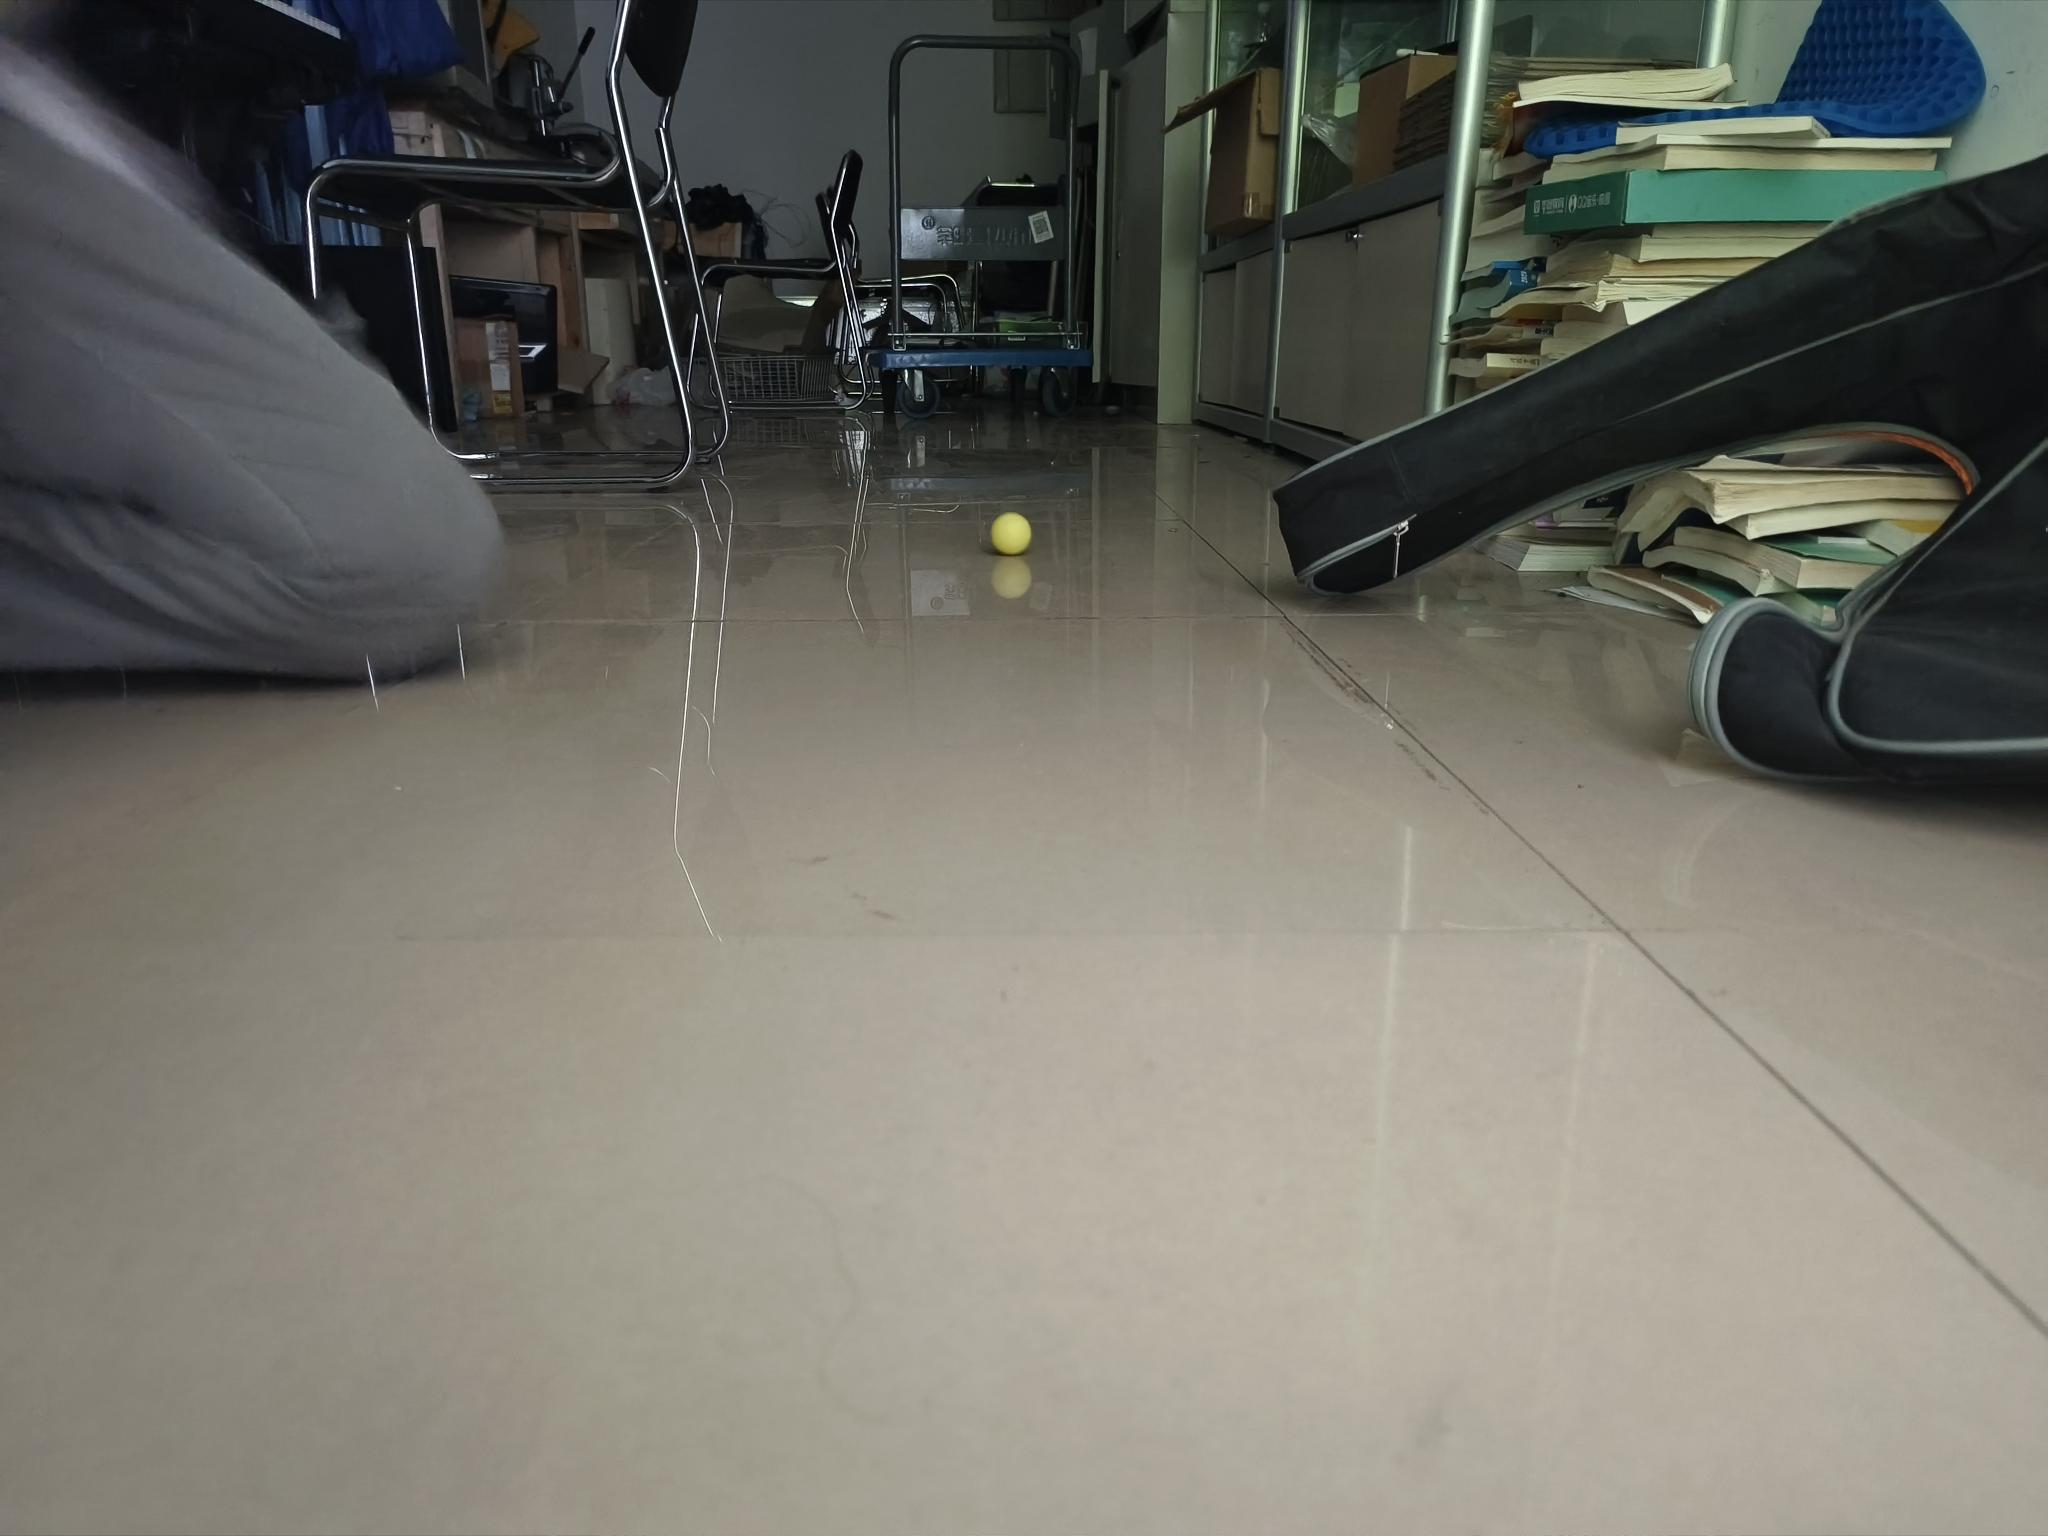ball: (990, 511, 1032, 555)
